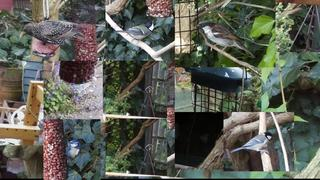blue tit: (63, 139, 80, 164)
great tit: (113, 20, 155, 45), (230, 132, 274, 154)
sparrow: (195, 20, 256, 58)
starling: (20, 20, 86, 45)
